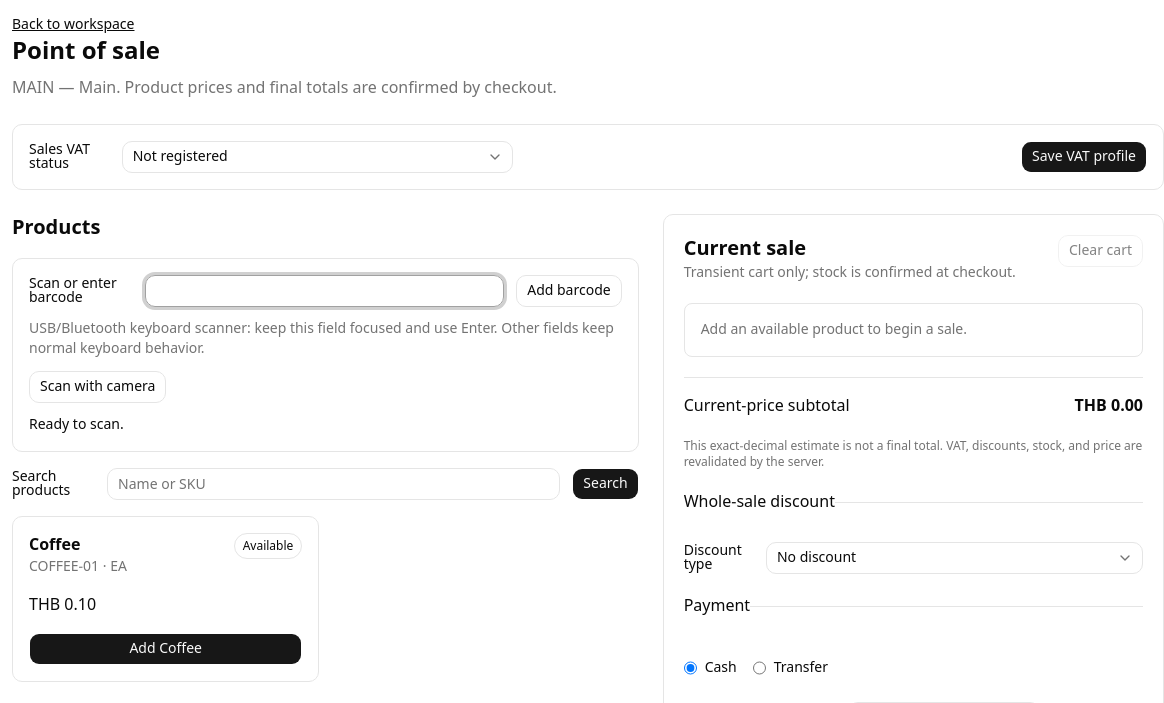
POS management UI › adds an item again, decrements/removes it, and clears the cart
Step 1. Click the button "Add Coffee" → (166, 649), box [29,633,302,665]
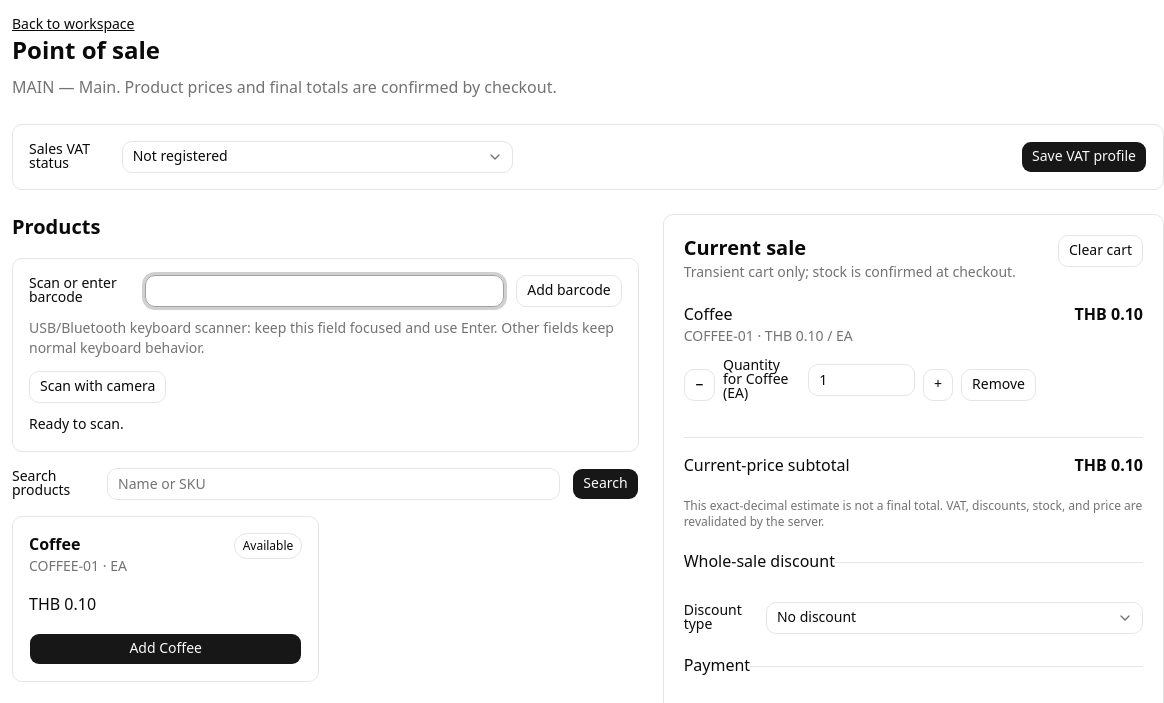
Step 2. Click the button "Add Coffee" → (166, 649), box [29,633,302,665]
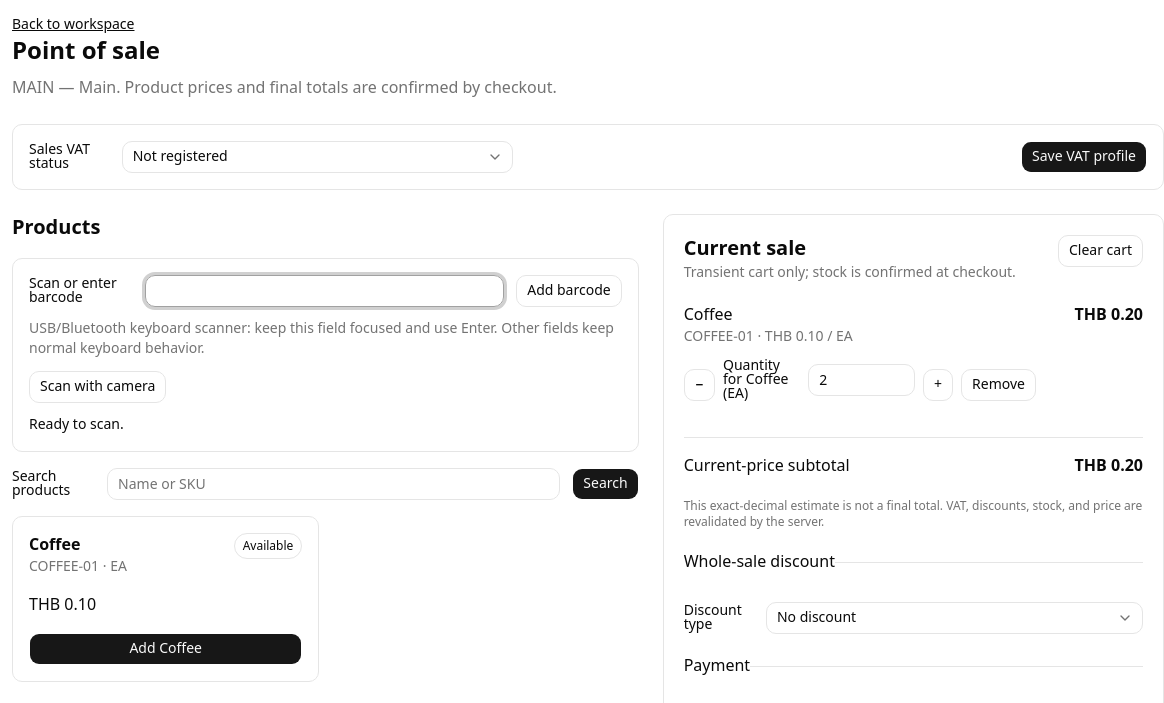
Expected: the field showing "2" is shown, [808,364,915,396]
Step 3. Click the button named "Decrease Coffee quantity" → (699, 385), box [684,369,715,401]
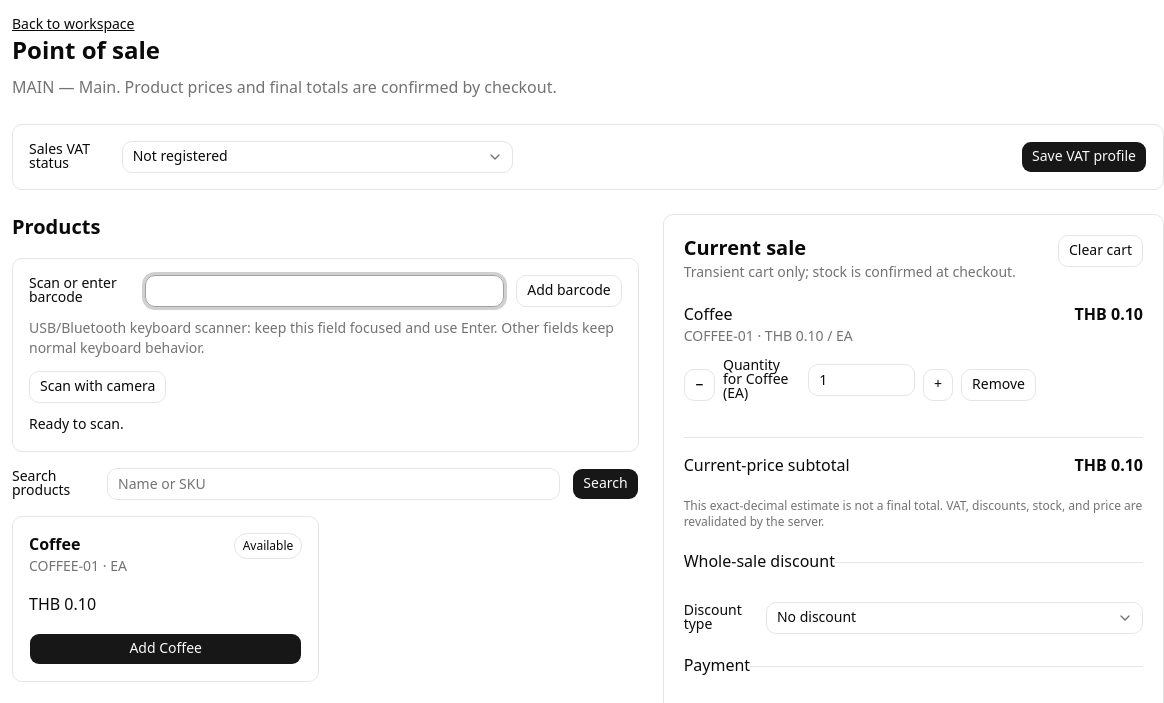
Expected: the field showing "1" is shown, [808,364,915,396]
Step 4. Click the button named "Decrease Coffee quantity" → (699, 385), box [684,369,715,401]
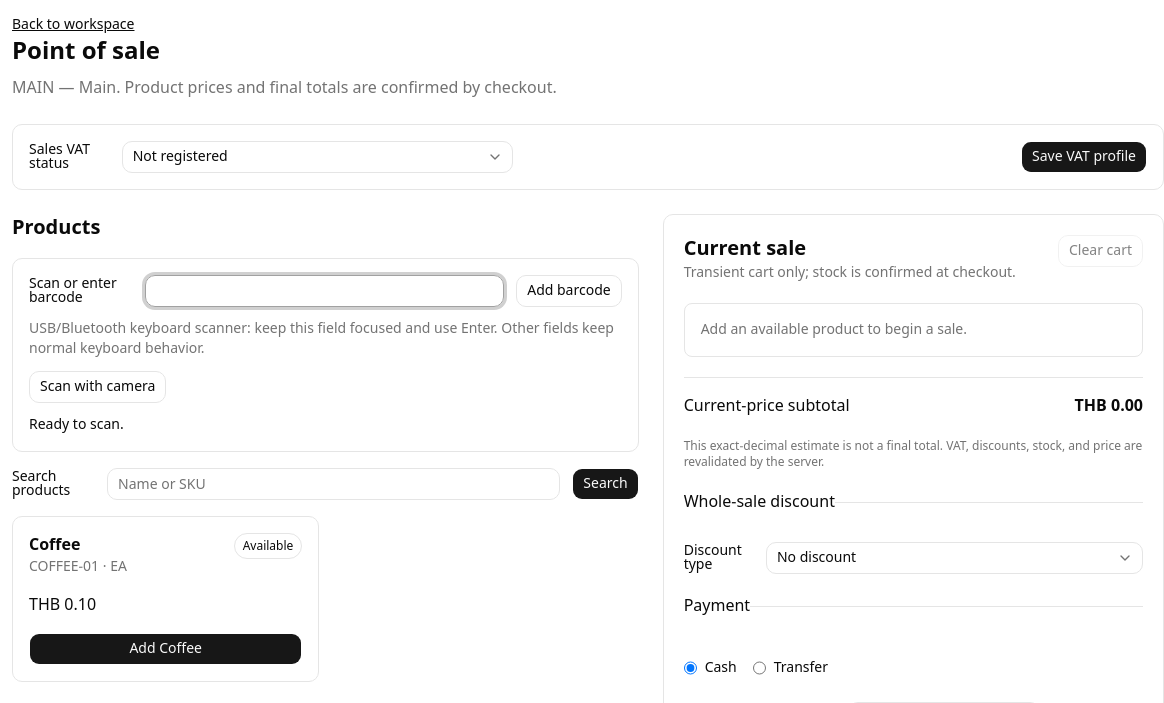
Step 5. Click the button "Add Coffee" → (166, 649), box [29,633,302,665]
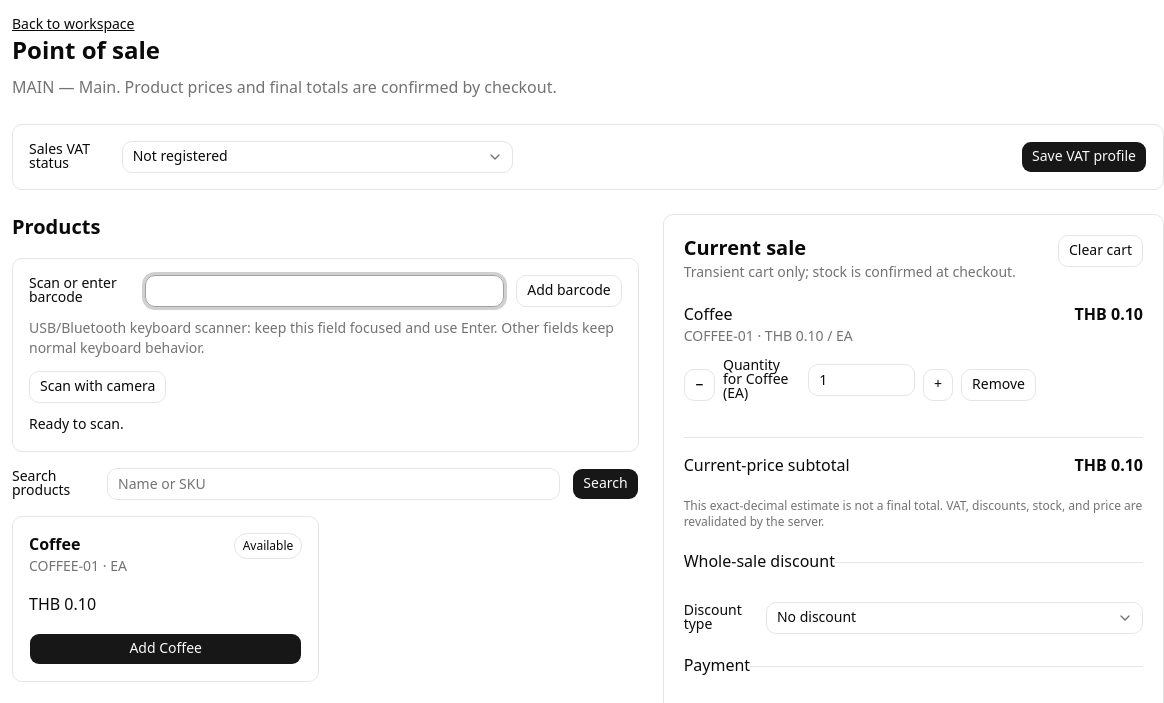
Step 6. Click the button "Clear cart" → (1100, 251), box [1058,235,1143,267]
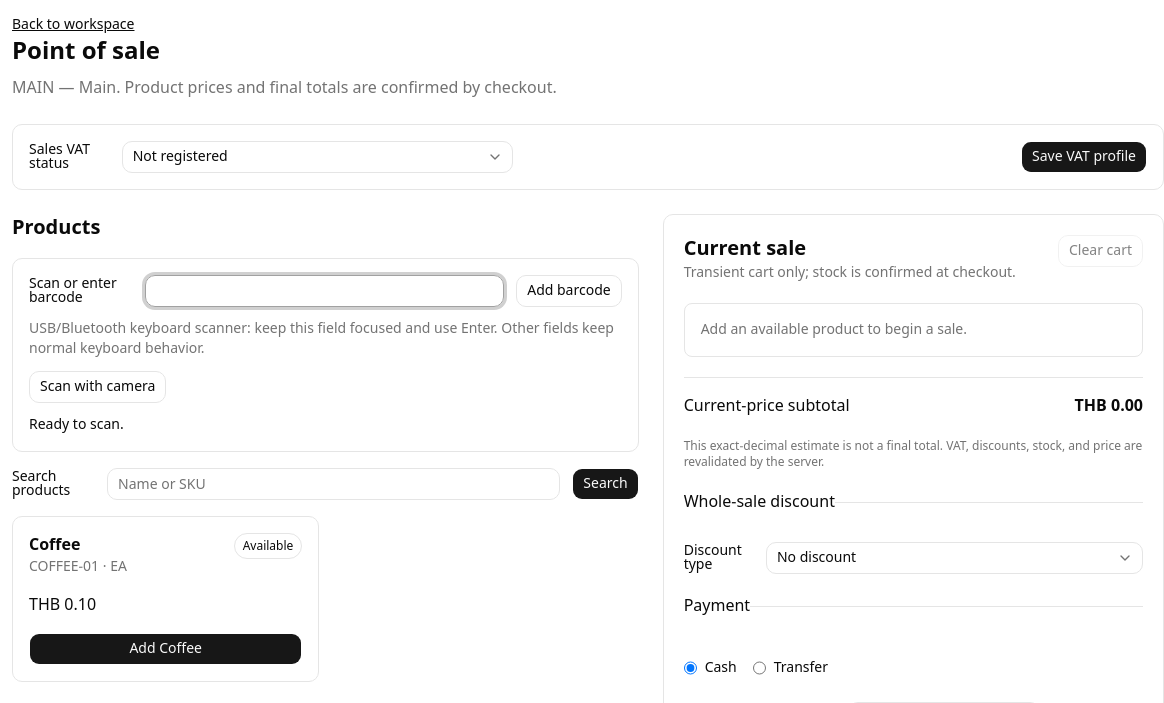
Expected: the text "Add an available product to begin a sale." is shown, [684,303,1143,357]
